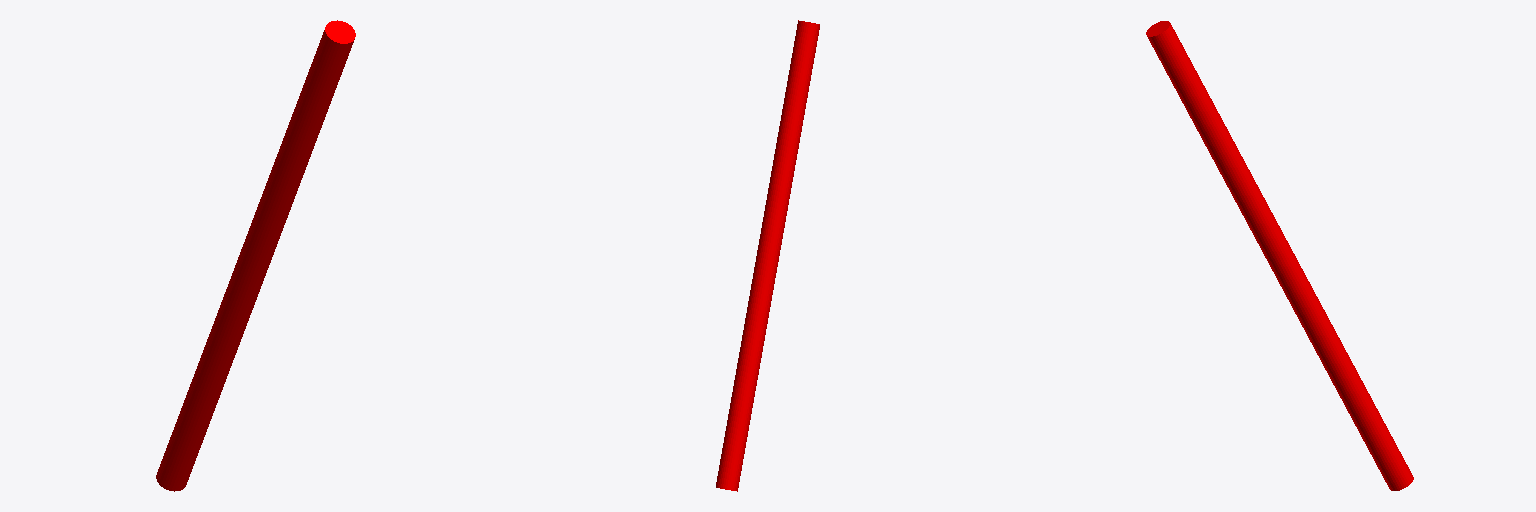
The robot description file, URDF, robot "tree_18.urdf":
<?xml version='1.0' encoding='utf-8'?>
<robot name="tree_18.urdf">
  <link name="branch_0">
    <inertial>
      <origin xyz="0.0 0.0 0.0" rpy="0.0 -0.0 0.0" />
      <mass value="1.0" />
      <inertia ixx="1.0" ixy="0.0" ixz="0.0" iyy="1.0" iyz="0.0" izz="1.0" />
    </inertial>
    <visual name="branch_0_visual">
      <geometry>
        <cylinder radius="0.05755079824530901" length="2.4151181239384094" />
      </geometry>
      <material name="semantic_material" />
      <origin xyz="0.055303986953949294 -0.5166038161426936 1.0900737838870123" rpy="6.938893903907228e-18 0.44477275327243715 -1.4641494949502782" />
    </visual>
    <collision name="branch_0_collision">
      <geometry>
        <cylinder radius="0.05755079824530901" length="2.4151181239384094" />
      </geometry>
      <origin xyz="0.055303986953949294 -0.5166038161426936 1.0900737838870123" rpy="6.938893903907228e-18 0.44477275327243715 -1.4641494949502782" />
    </collision>
  </link>
  <material name="semantic_material">
    <color rgba="1. 0. 0. 1." />
  </material>
</robot>

--- Facts derived from the render (not from the file) ---
3 views of the same robot in one strip: view 1: azimuth 30°, elevation 25°; view 2: azimuth 150°, elevation 25°; view 3: azimuth 270°, elevation 25° (orthographic).
Robot: tree_18.urdf — 1 links, 0 joints (none); root link branch_0; default pose: every joint at zero.
Links seen in each view (by area): view 1: branch_0; view 2: branch_0; view 3: branch_0.
Boxes of the visible links, x1,y1,x2,y2 form: branch_0: (156, 20, 355, 491); branch_0: (716, 20, 819, 491); branch_0: (1146, 21, 1413, 490).
Bounding box of the posed robot: 0.2251 × 1.14 × 2.23 m (x, y, z).
Geometry: primitives only (box / cylinder / sphere), no mesh files.